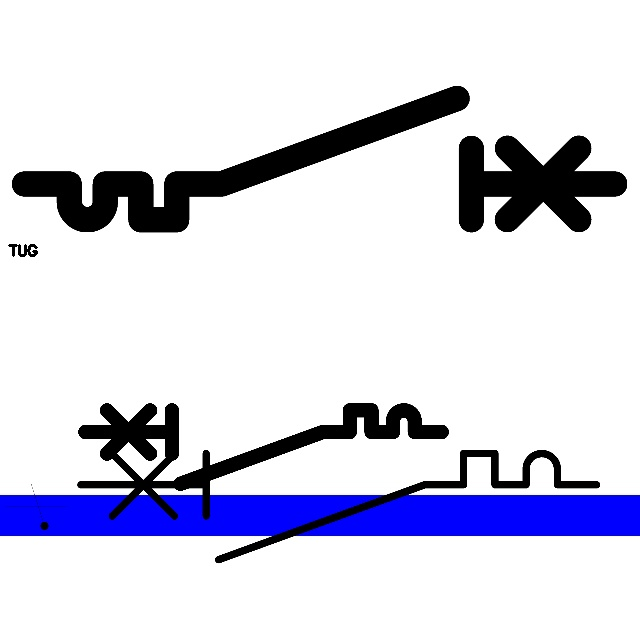interruptor_termomagnetico: (9, 83, 630, 235), (67, 440, 609, 573), (76, 401, 451, 492)
